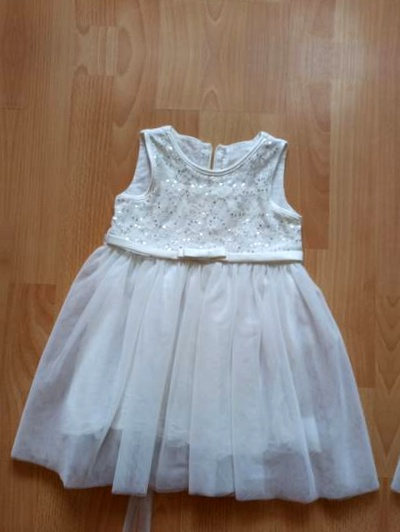Dress: (12, 82, 399, 516), (33, 0, 400, 29), (387, 98, 400, 532), (0, 0, 15, 11)
